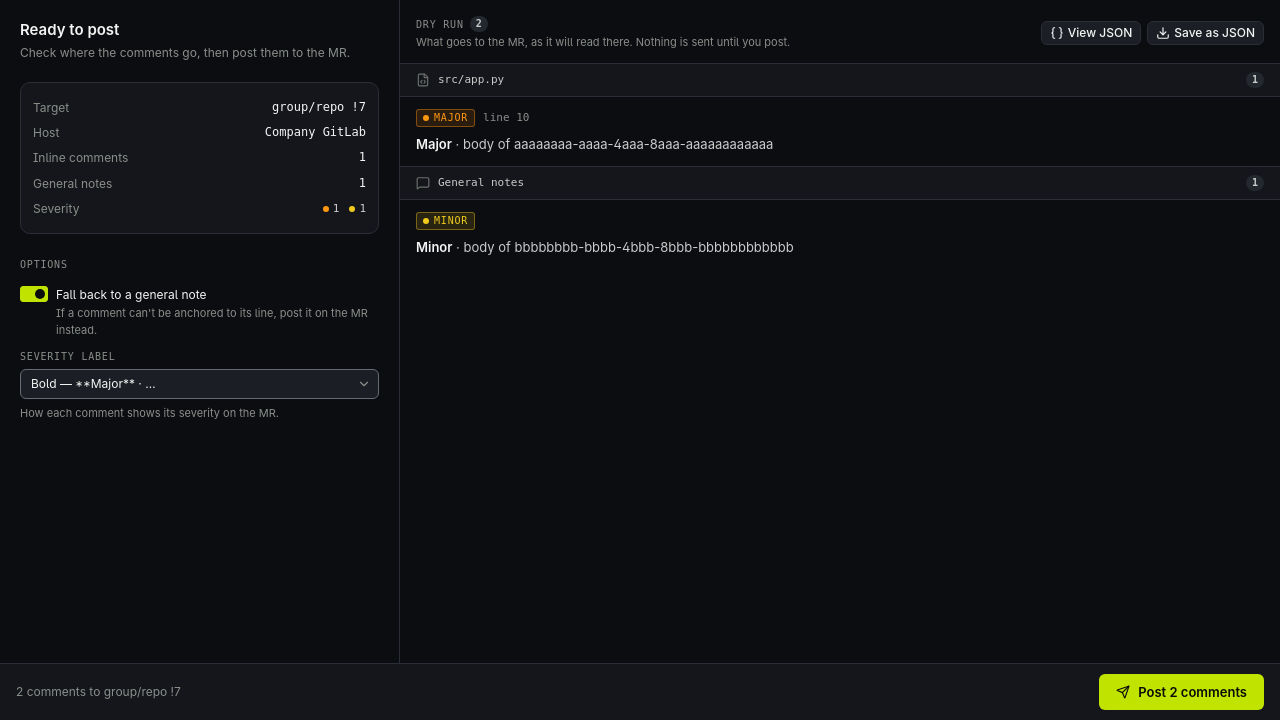
Scenario: PostStage › previews the comments file by file, and the JSON payload on request
Click the button "View JSON".
click(1091, 33)  # box [1041,21,1141,45]
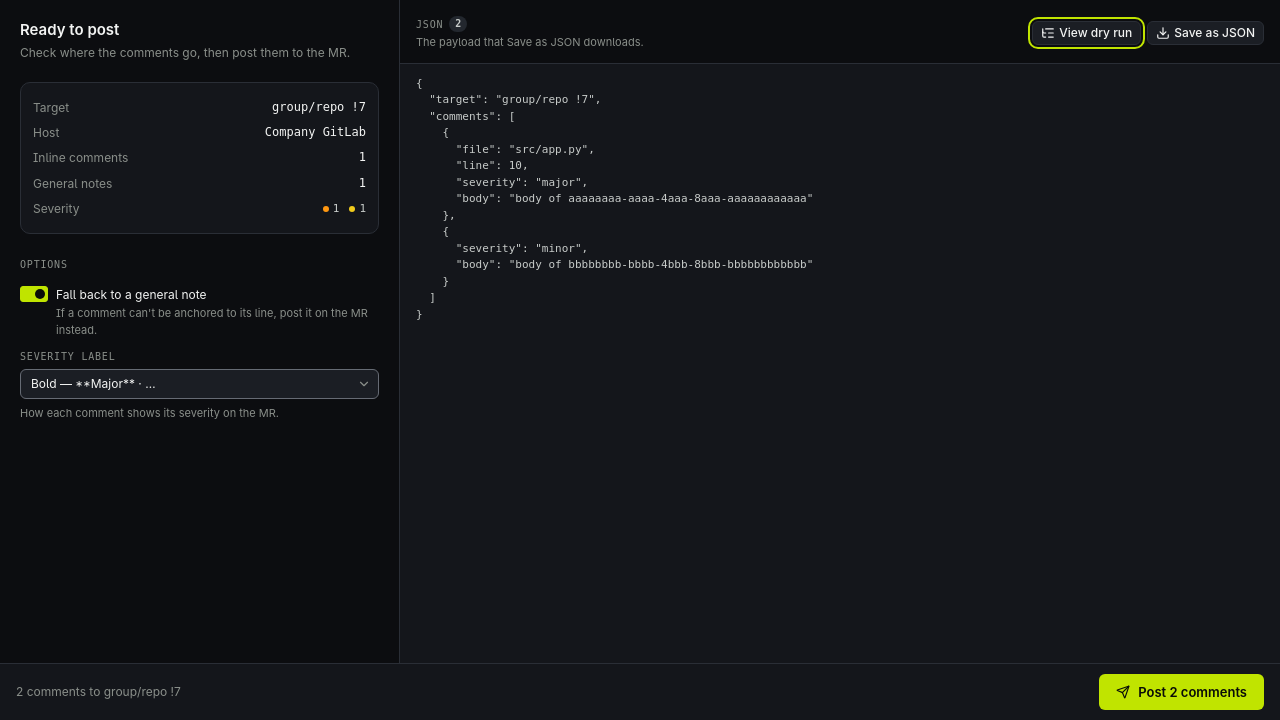
Result: the text "\"target\": \"group/repo !7\"" is shown at [416,76,813,320]
Click the button "View dry run".
click(1087, 33)  # box [1032,21,1141,45]
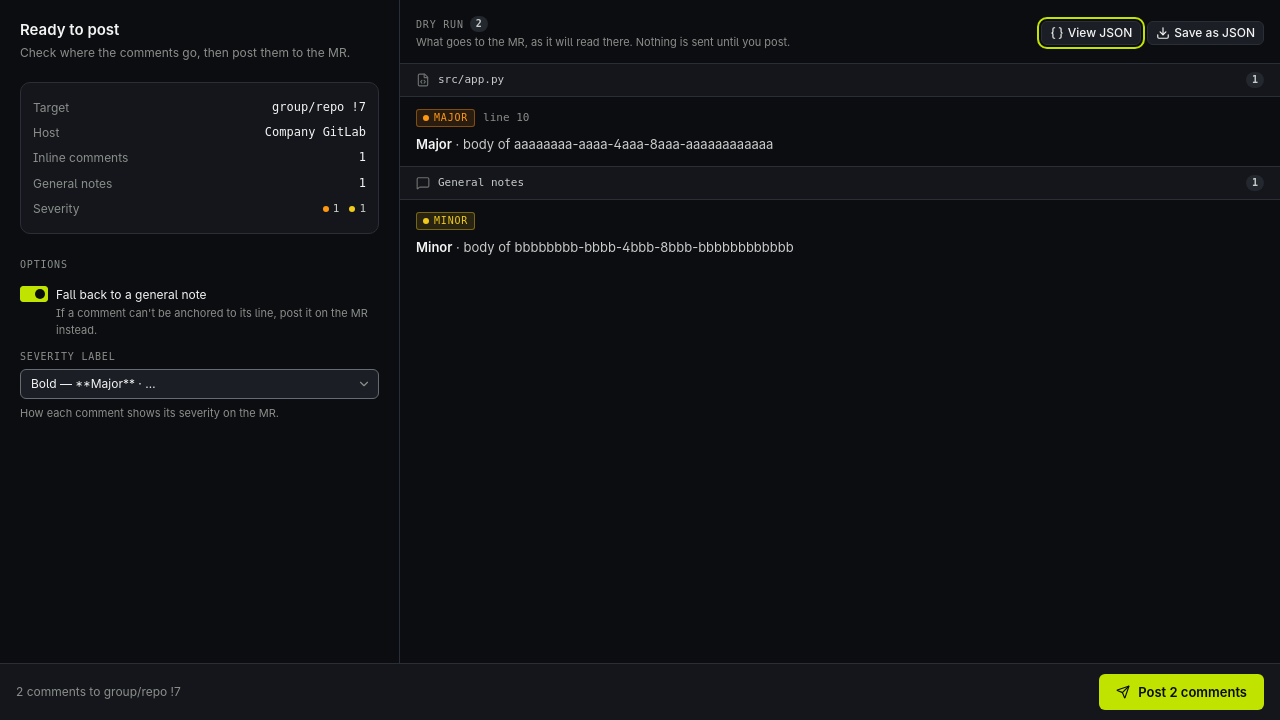
Result: the element "src/app.py" is shown at [400,62,1279,166]
